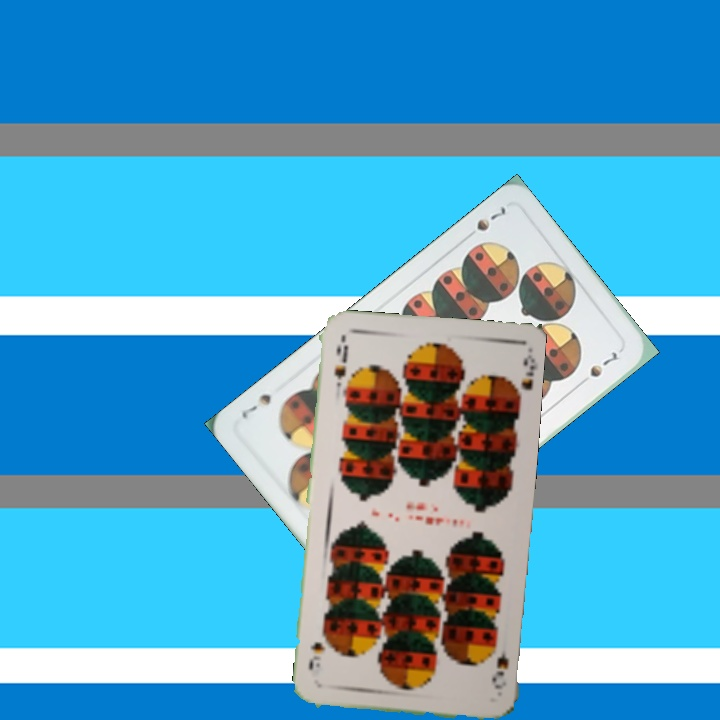S7: (460, 202, 509, 243)
S9: (331, 334, 351, 393), (488, 646, 511, 692)
